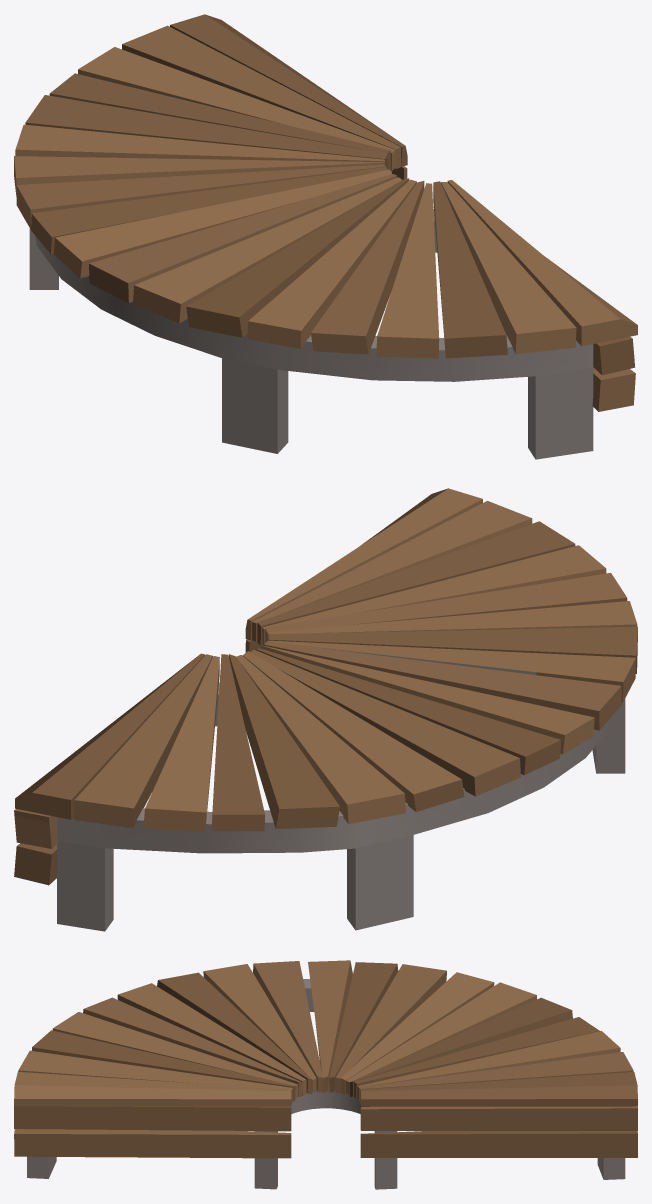
File: Town_Bench_5.fbx
3 renders of one model, top to bottom at view 1: azimuth 30°, elevation 25°; view 2: azimuth 150°, elevation 25°; view 3: azimuth 270°, elevation 25°, orthographic. The views are drawn at different scales.
Parts seen in each view (by area): view 1: Town_Bench_5; view 2: Town_Bench_5; view 3: Town_Bench_5.
Boxes of the visible parts, <box> form: Town_Bench_5: <box>14,14,637,459</box>; Town_Bench_5: <box>14,488,637,931</box>; Town_Bench_5: <box>14,960,637,1189</box>.
Size of the model in its own units: 137 by 49.14 by 273.
1 material, 1 textured.
